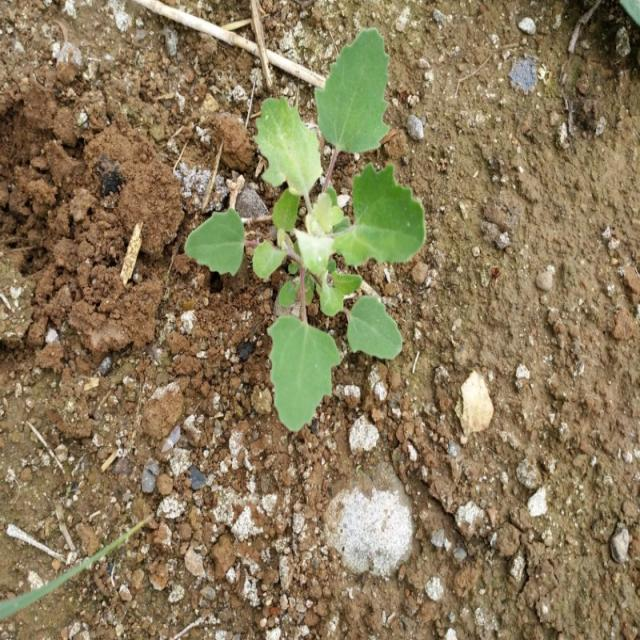ca: (253, 26, 427, 430)
